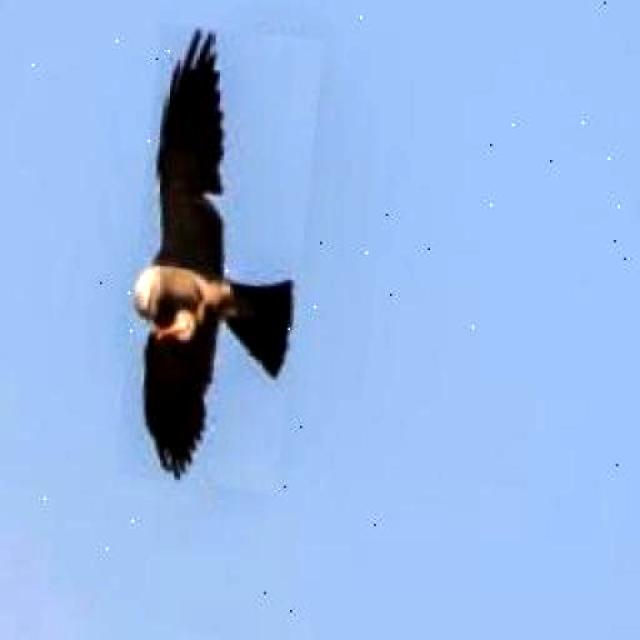airplane: (114, 22, 324, 492)
